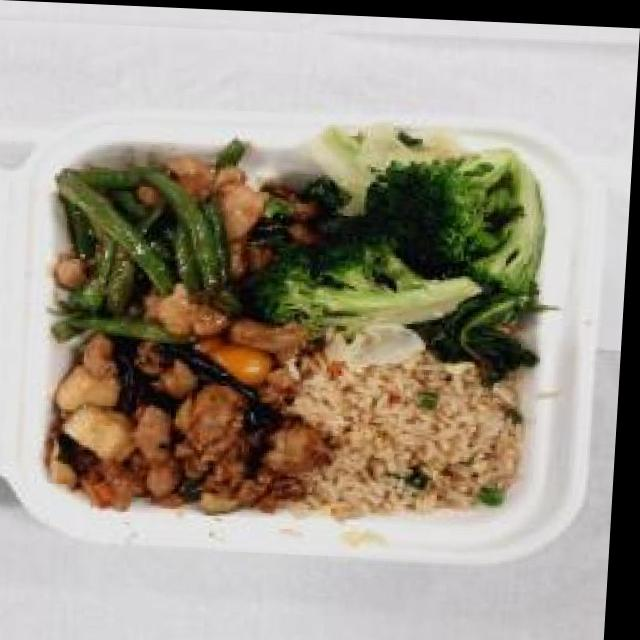Fried Rice: (289, 338, 543, 524)
Kung Pao Chicken: (41, 335, 339, 528)
String Bean Chicken Breast: (51, 142, 278, 358)
Super Greens: (289, 124, 568, 368)
